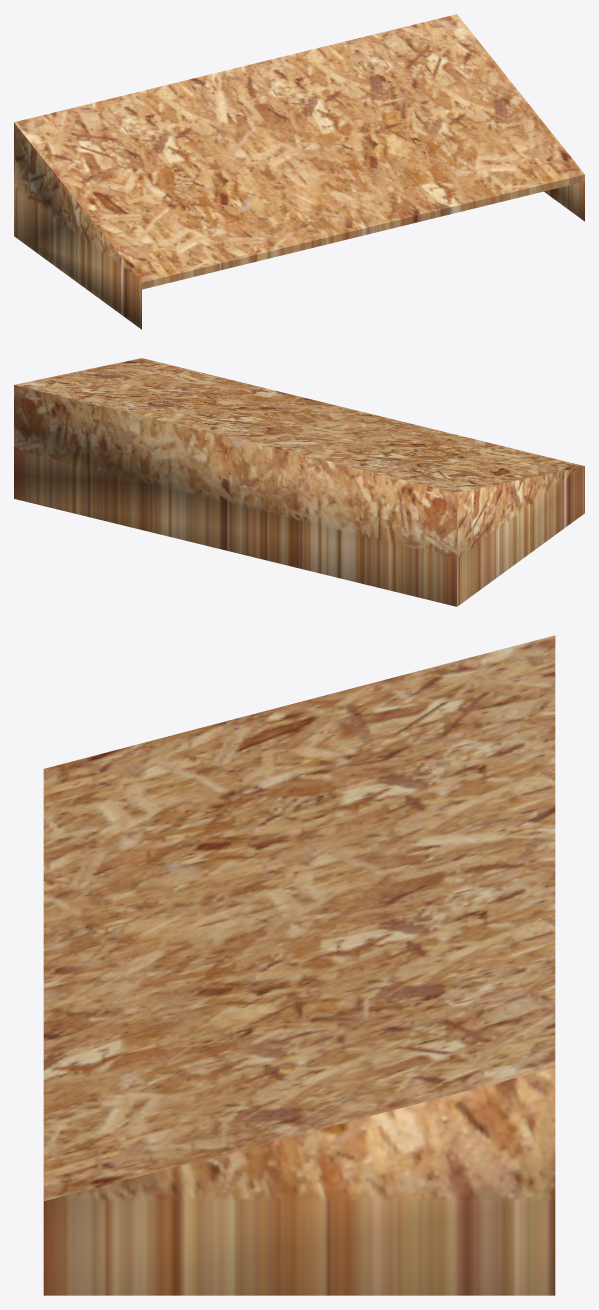
Rendered from half_ramp_full_elevated.dae.
3 views of the same model, one above another, from view 1: azimuth 30°, elevation 25°; view 2: azimuth 150°, elevation 25°; view 3: azimuth 270°, elevation 25° (orthographic). The views are drawn at different scales.
Visible parts, largest first — view 1: Plane; view 2: Plane; view 3: Plane.
Part boxes in pixels (x1,y1,x2,y2): Plane: (14,14,584,329); Plane: (14,358,584,606); Plane: (43,635,555,1295).
Bounding box in the file's own units: 1.18 × 0.59 × 0.29.
1 material, 1 textured.
